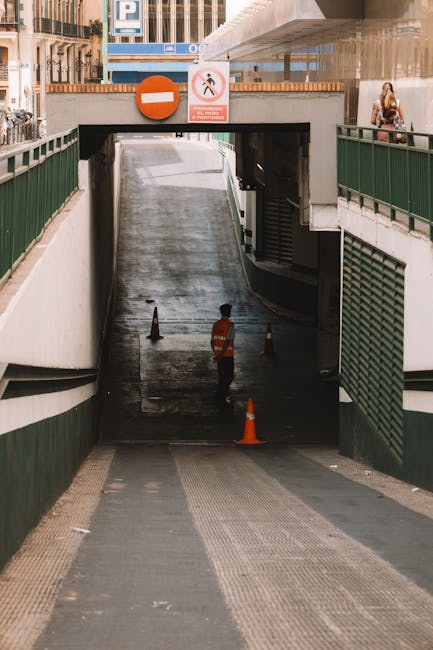traffic_cone: (232, 397, 268, 447), (258, 321, 278, 360), (145, 306, 164, 341)
